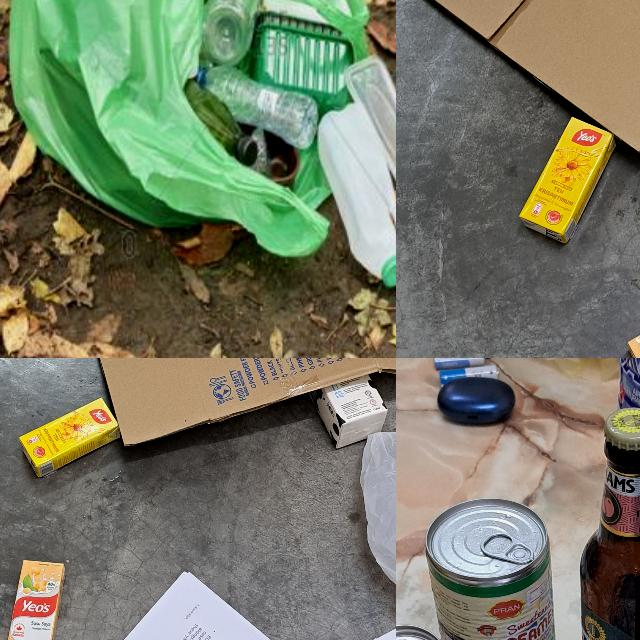aba de lata: (480, 532, 534, 564)
caixinha: (521, 113, 613, 245), (16, 398, 122, 480), (317, 376, 387, 450), (6, 558, 63, 640)
garrafa de vidro: (580, 408, 640, 640)
lata: (424, 497, 557, 640)
papel: (70, 569, 396, 640)
papelão: (396, 0, 640, 157), (41, 358, 396, 445)
sacola plástica: (5, 0, 369, 336), (362, 432, 396, 603)
